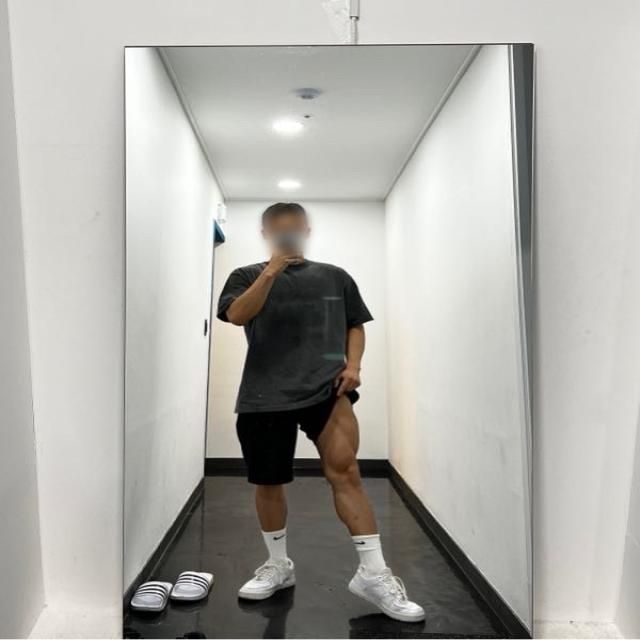shortpants: (236, 390, 365, 490)
shortsleeve: (213, 254, 372, 412)
